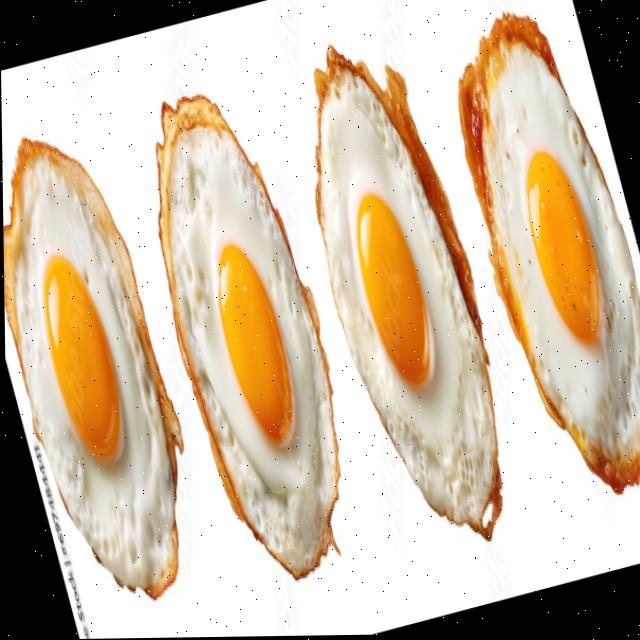Egg: (314, 46, 499, 535), (156, 95, 336, 579), (459, 16, 640, 491), (3, 137, 181, 597)
